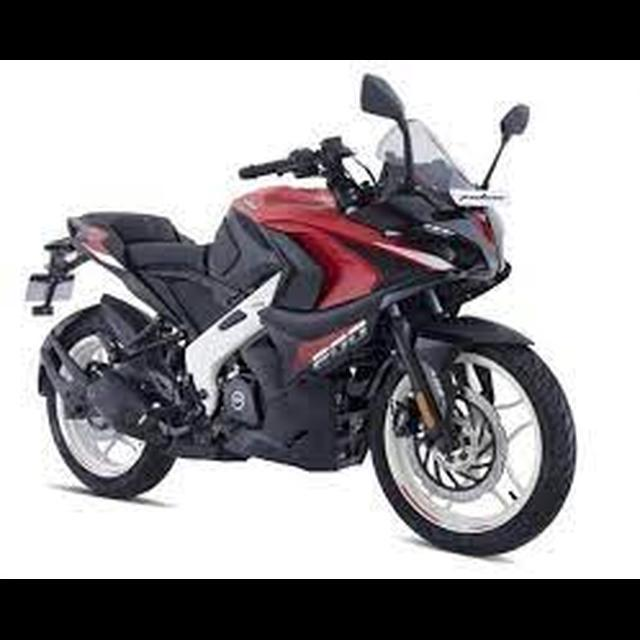motorcycle: (17, 67, 583, 558)
